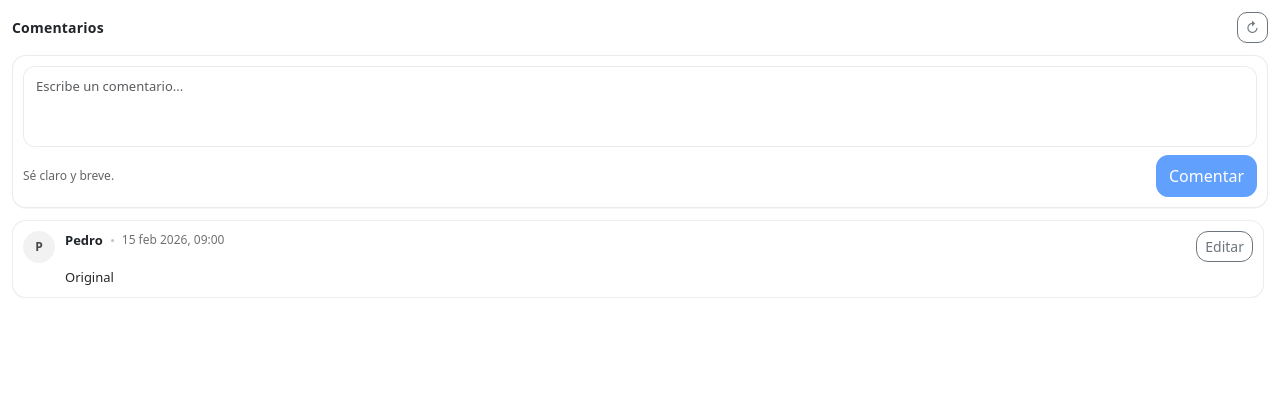
Test: DocumentCommentsPanel › renders author name from createdBy object and shows Edit for owner; edit -> save updates content (success branch)
Check: the text "Original" is shown, box [65,268,114,286]
Check: the text "Pedro" is shown, box [65,230,103,250]
Click the button "Editar". click: (1225, 246)
box: [1196,230,1253,262]
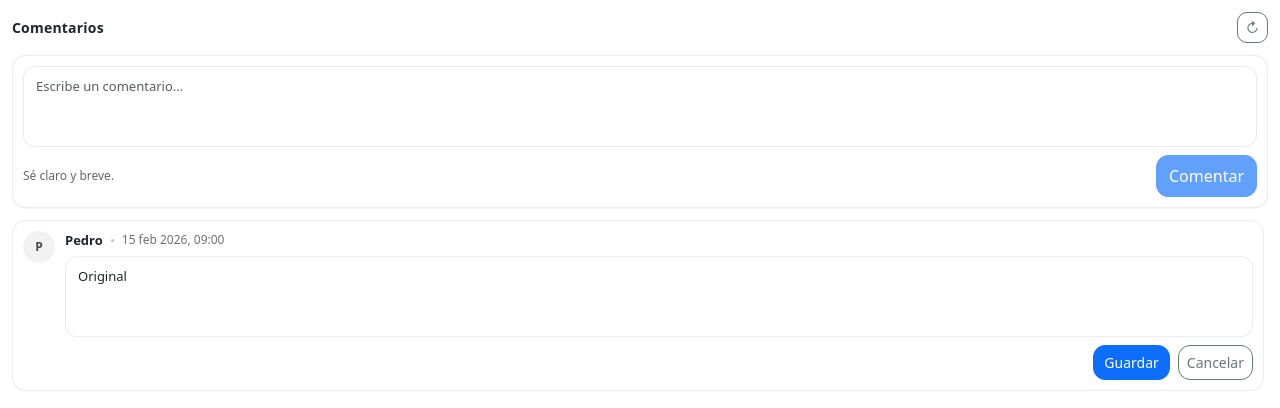
Type "  Editado OK  " into the text box with placeholder "Escribe un comentario...". click: (640, 106)
box: [23,66,1257,146]
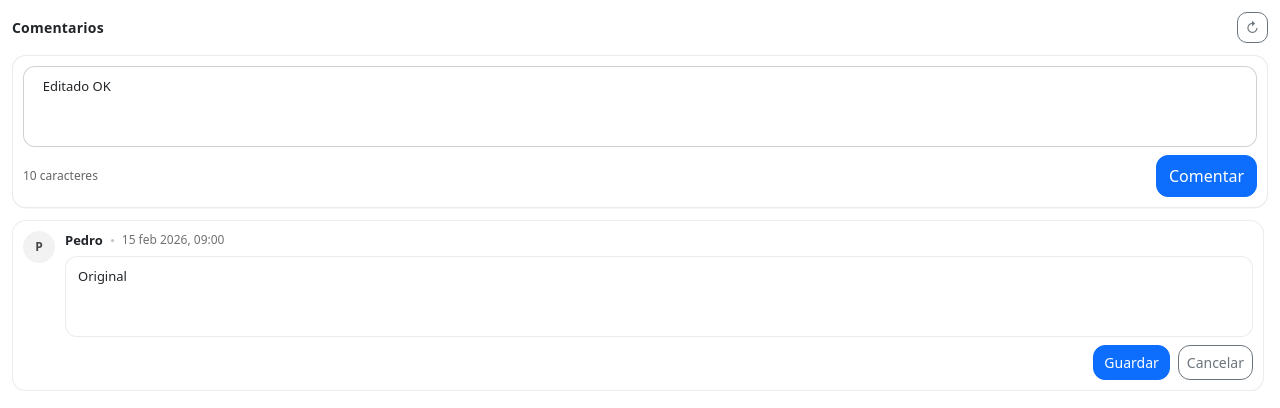
Check: the button "Guardar" is enabled
Click the button "Guardar". click: (1132, 362)
box: [1093,344,1170,380]
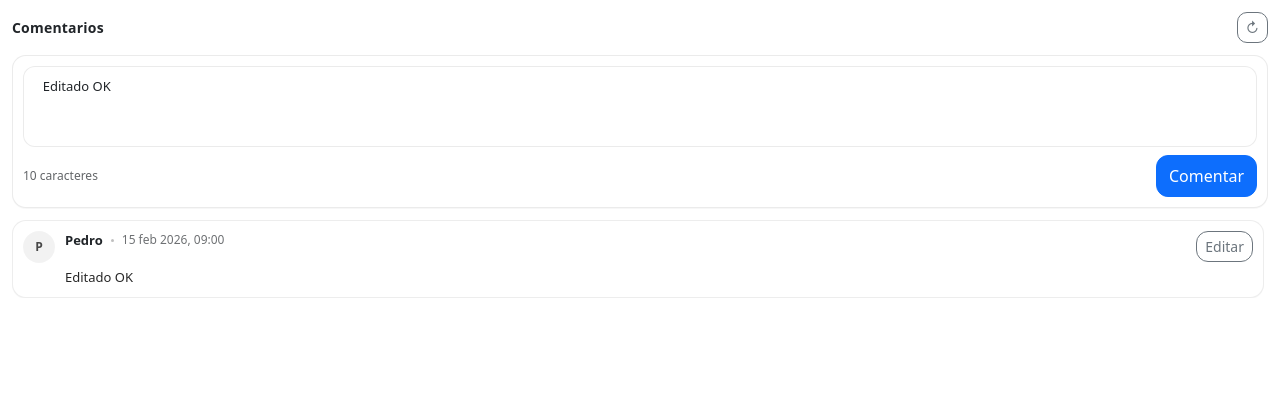
Check: the button "Guardar" is gone
